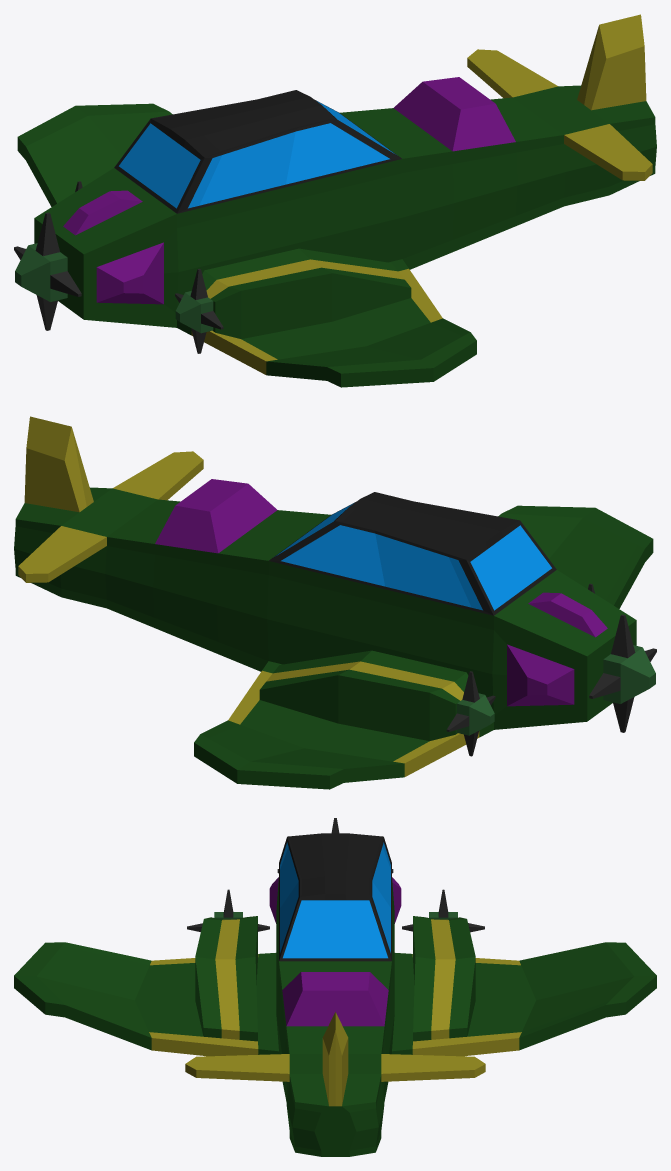
File: ModelOne.fbx
The picture shows the model from 3 angles, top to bottom: view 1: azimuth 30°, elevation 25°; view 2: azimuth 150°, elevation 25°; view 3: azimuth 270°, elevation 25°; orthographic projection. The views are drawn at different scales.
Visible parts, largest first — view 1: Cube, Cube.001, Cube.002; view 2: Cube, Cube.001, Cube.003; view 3: Cube, Cube.002, Cube.003.
Boxes of the visible parts, x1,y1,x2,y2 form: Cube: (17,14,656,387); Cube.001: (14,212,81,330); Cube.002: (175,269,223,353); Cube: (14,416,653,789); Cube.001: (589,614,656,732); Cube.003: (446,671,495,756); Cube: (14,833,656,1156); Cube.002: (187,889,269,931); Cube.003: (402,889,484,932).
Bounding box in the file's own units: 1146 × 303 × 1139.
